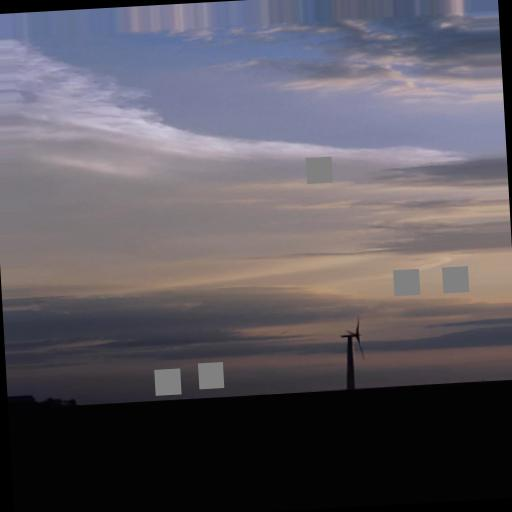wind turbine: (340, 316, 369, 396)
